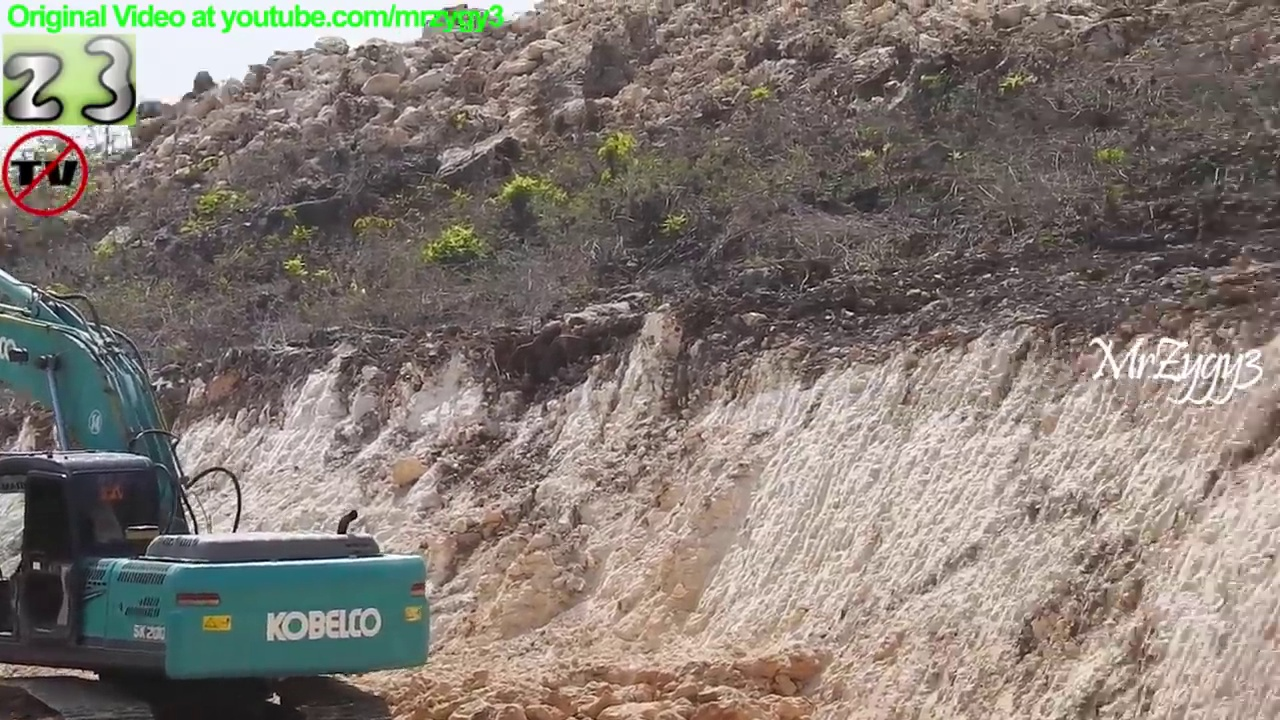excavator: (1, 252, 440, 714)
